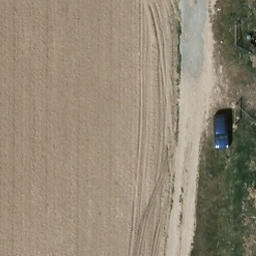car: (213, 114, 232, 151)
